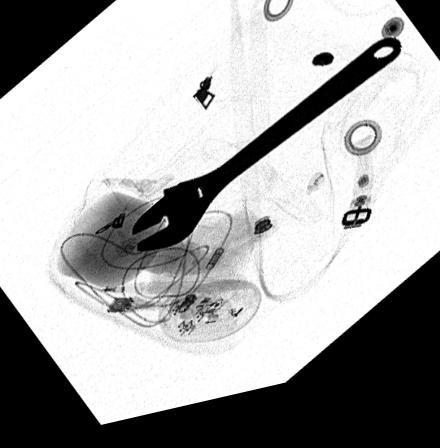Wrench: (129, 53, 403, 256)
